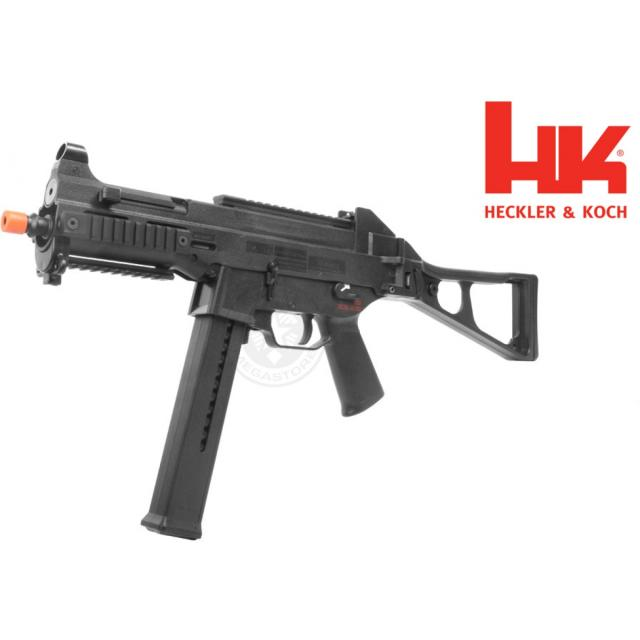SMG: (1, 143, 540, 544)
